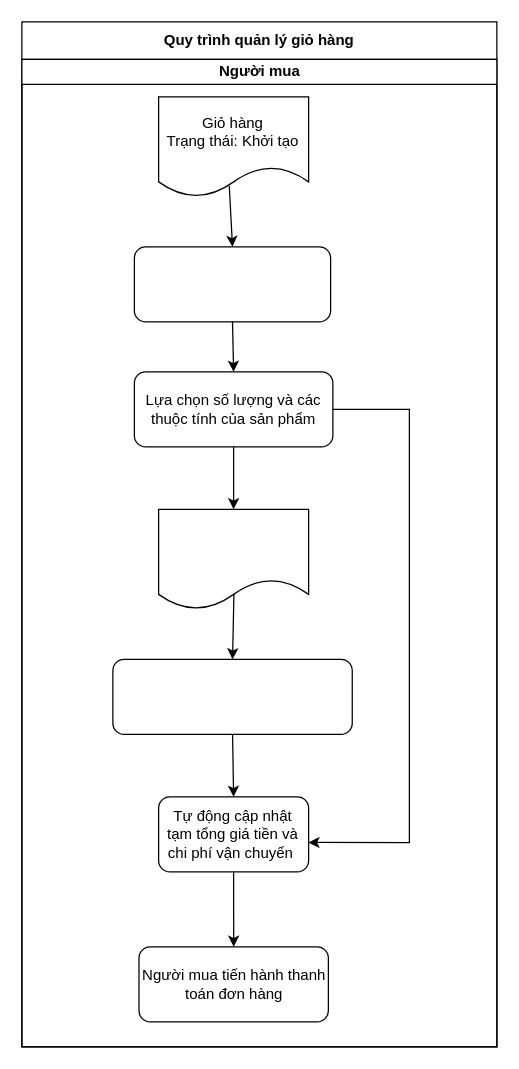
This 519x1069 diagram has some shape labels left out. Here are the shapes that lost their labels. From the top down, the centre of each, then its label:
At point 232,284: "Thêm sản phẩm vào giỏ hàng".
At point 233,558: "Giỏ hàng Trạng thái: Có hàng".
At point 232,696: "Người mua có thể: xóa sản phẩm, thay đổi số lượng sản phẩm,".
